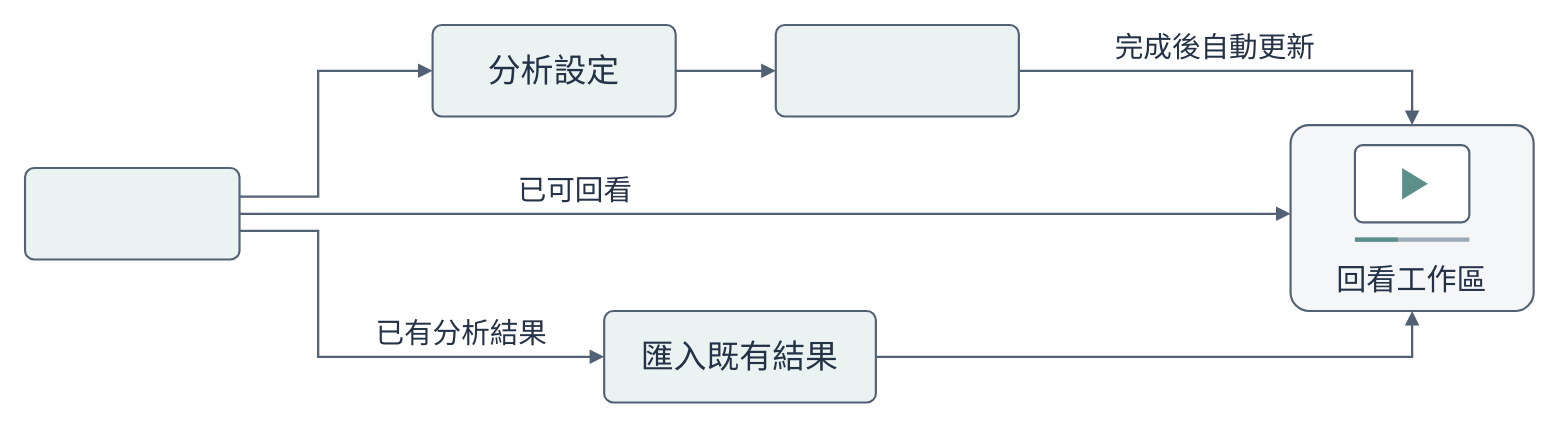
The diagram is 1560 pixels wide and 429 high, and some of its shapes have lost their labels. The shapes that lost their labels are listed below. From the top down, each one's box as (x1, y1, x2, y2) in pixels, then its label:
(774, 23, 1019, 117): 任務進度
(23, 166, 240, 260): 比賽庫
